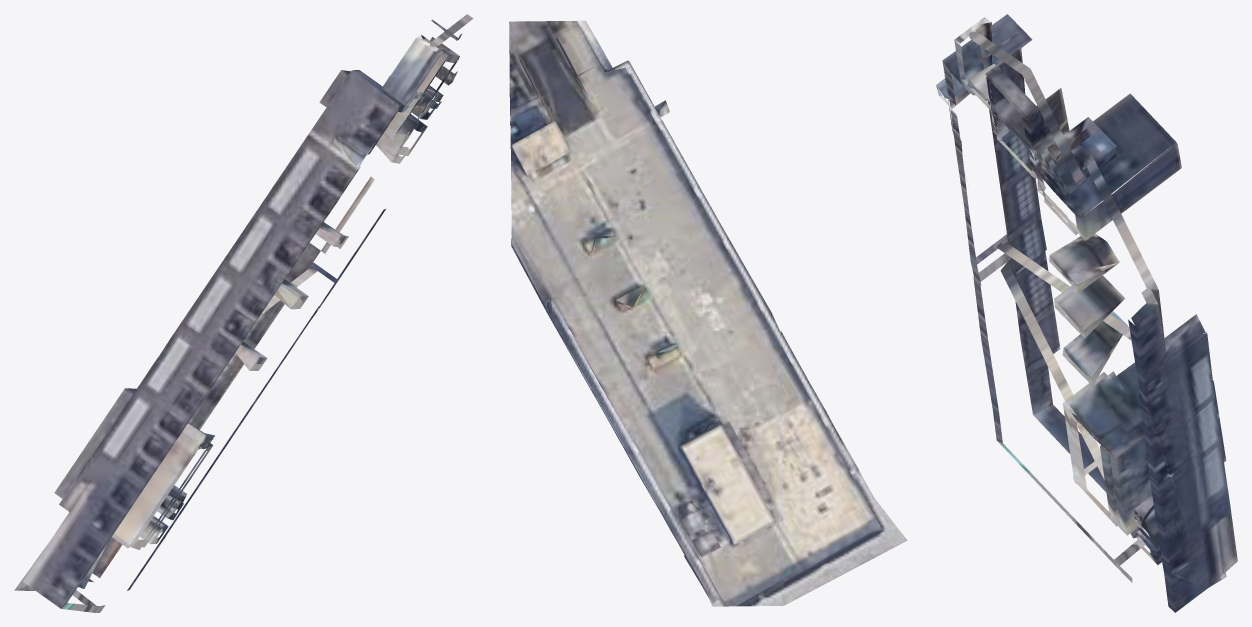
3 views of the same model, side by side, from view 1: azimuth 30°, elevation 25°; view 2: azimuth 150°, elevation 25°; view 3: azimuth 270°, elevation 25° (orthographic). The views are drawn at different scales.
Bounding box in the file's own units: 60.47 × 70.66 × 26.18.
1 material, 1 textured.
